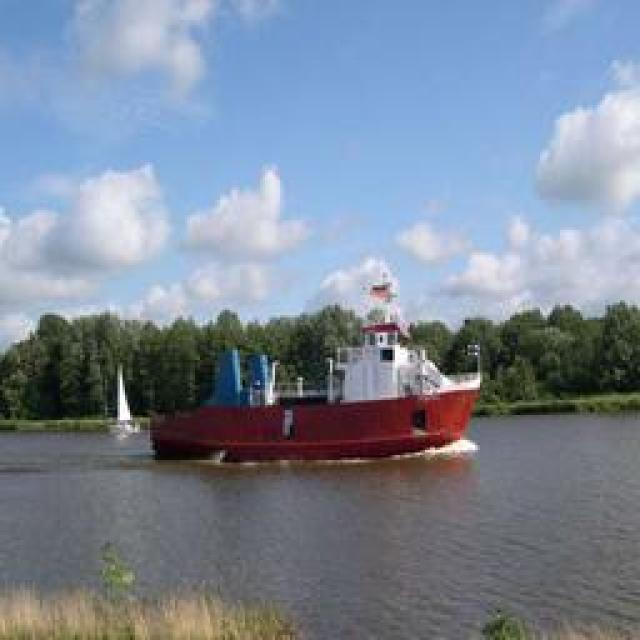ship2: (153, 264, 481, 461)
